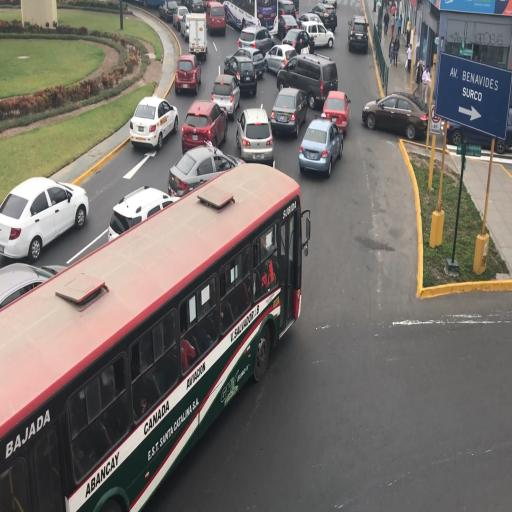auto: (1, 176, 88, 262), (167, 141, 241, 197), (108, 187, 174, 240), (441, 106, 510, 155), (362, 91, 427, 141), (129, 94, 178, 152), (300, 117, 343, 177), (181, 98, 227, 152), (236, 105, 274, 165), (269, 87, 306, 139), (223, 52, 258, 96), (320, 90, 349, 137), (210, 75, 240, 120), (174, 54, 202, 97), (264, 42, 299, 76), (297, 20, 335, 50), (240, 24, 275, 56), (282, 28, 313, 56), (312, 1, 338, 33), (205, 1, 226, 36), (276, 14, 301, 42), (348, 14, 366, 52), (248, 49, 267, 79), (298, 12, 326, 31), (277, 0, 299, 21), (159, 0, 178, 23), (174, 6, 189, 32)
bus: (4, 166, 300, 498), (256, 0, 279, 30)
camion: (186, 12, 208, 60)
